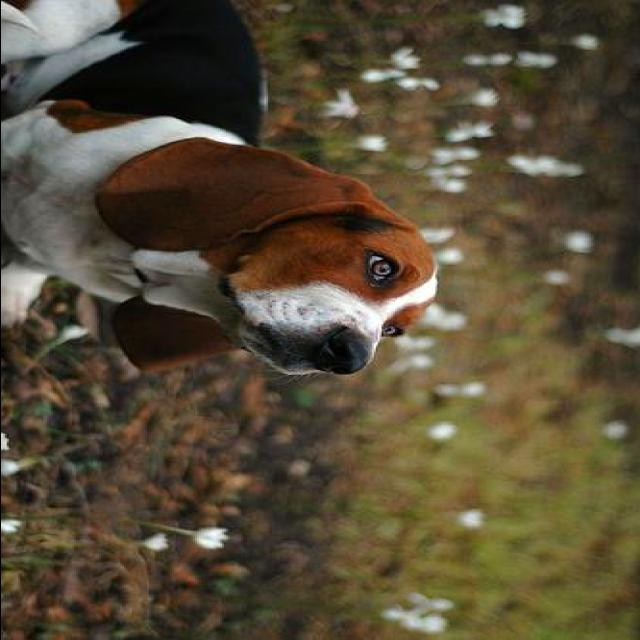basset: (2, 1, 438, 375)
